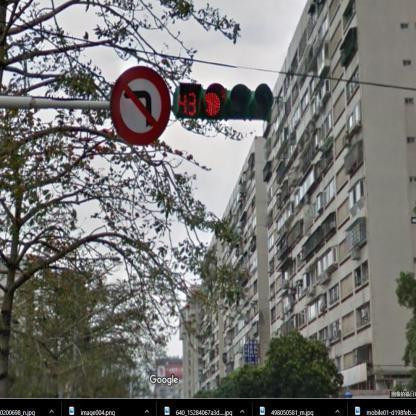Red Light: (174, 82, 272, 122)
